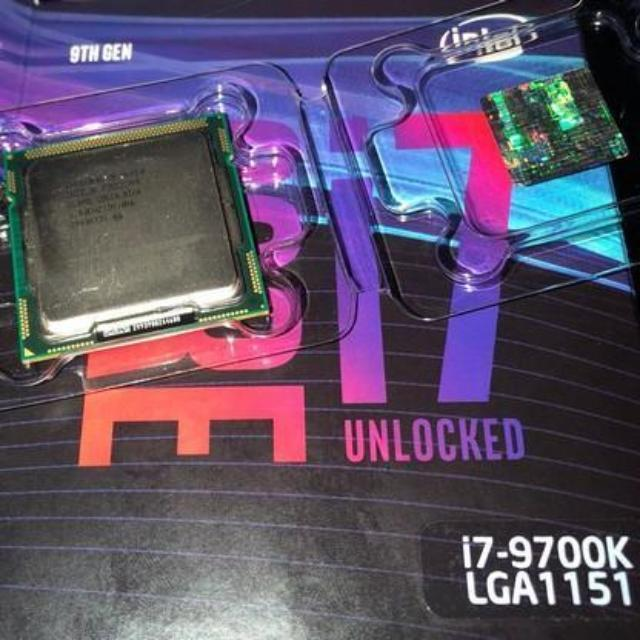CPU: (3, 105, 275, 350)
